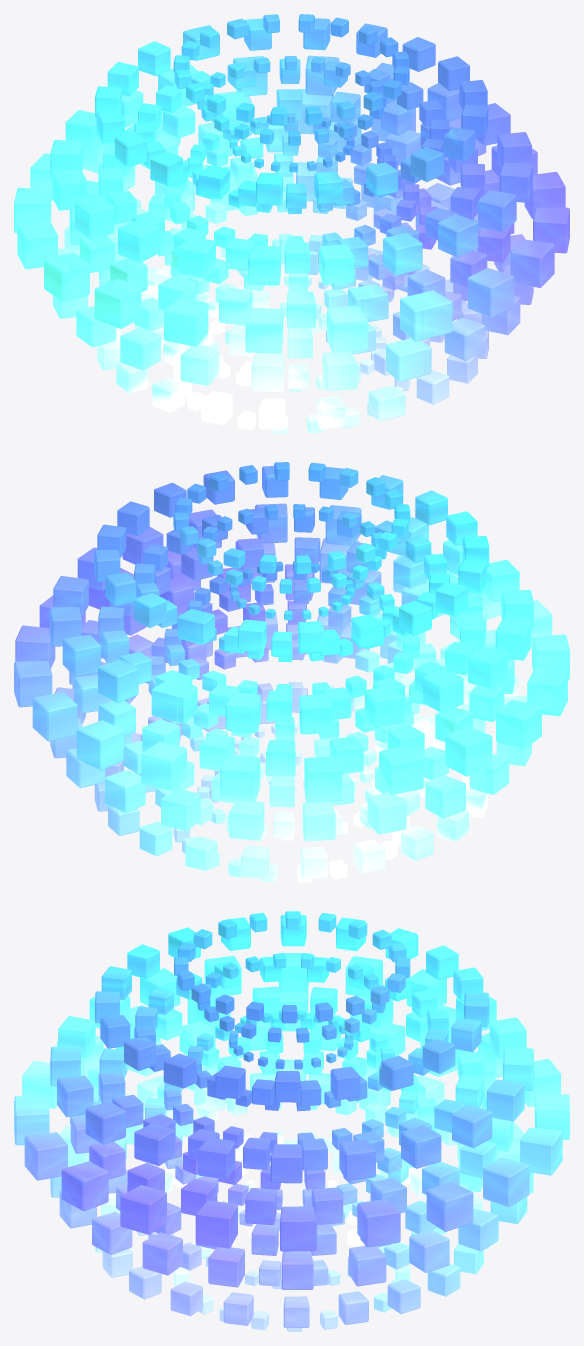
The picture shows the model from 3 angles, top to bottom: view 1: azimuth 30°, elevation 25°; view 2: azimuth 150°, elevation 25°; view 3: azimuth 270°, elevation 25°; orthographic projection.
Visible parts, largest first — view 1: Cube.005, Cube.001, Cube.002; view 2: Cube.005, Cube.001, Cube.002; view 3: Cube.005, Cube.001, Cube.002.
Part boxes in pixels (x1,y1,x2,y2): Cube.005: [14, 14, 569, 433]; Cube.001: [69, 56, 514, 391]; Cube.002: [148, 113, 437, 333]; Cube.005: [14, 462, 569, 882]; Cube.001: [69, 504, 514, 840]; Cube.002: [147, 561, 438, 781]; Cube.005: [14, 911, 569, 1331]; Cube.001: [70, 953, 513, 1289]; Cube.002: [145, 1010, 437, 1231].
Bounding box in the file's own units: 9.71 × 6.2 × 9.71.
Materials: 3 (3 with a texture image).
